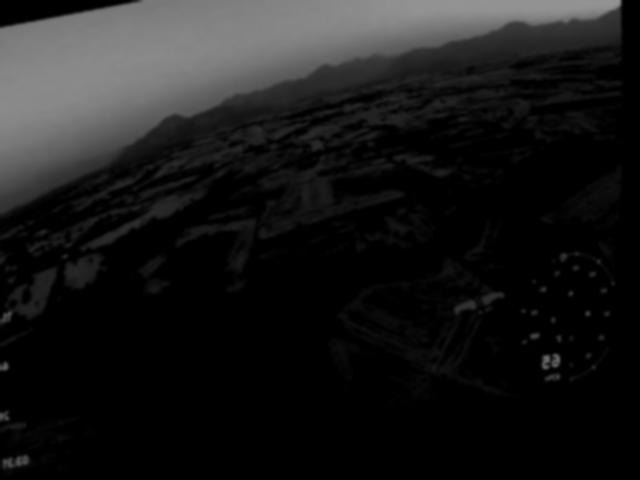hedef: (451, 295, 518, 336)
